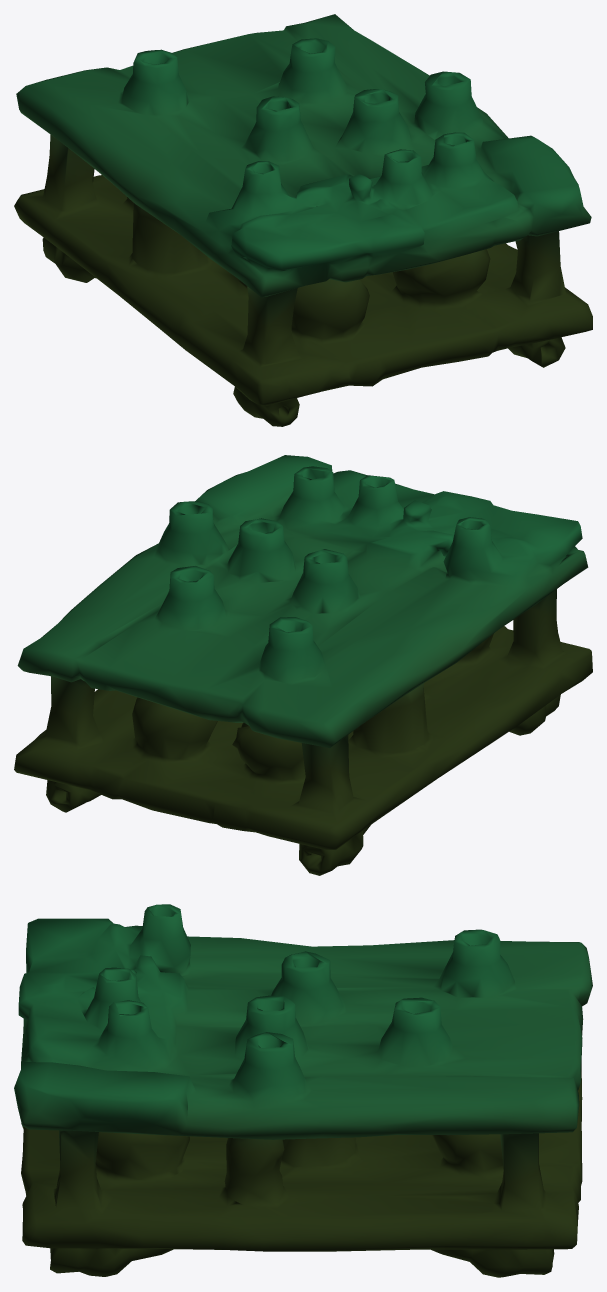
File: pottery-table.glb
The picture shows the model from 3 angles, top to bottom: view 1: azimuth 30°, elevation 25°; view 2: azimuth 150°, elevation 25°; view 3: azimuth 270°, elevation 25°; orthographic projection. The views are drawn at different scales.
Visible parts, largest first — view 1: pottery-table; view 2: pottery-table; view 3: pottery-table.
Boxes of the visible parts, x1,y1,x2,y2 form: pottery-table: [14, 14, 592, 426]; pottery-table: [14, 455, 592, 875]; pottery-table: [14, 904, 592, 1277].
Size of the model in its own units: 0.0147 by 0.00907 by 0.0197.
